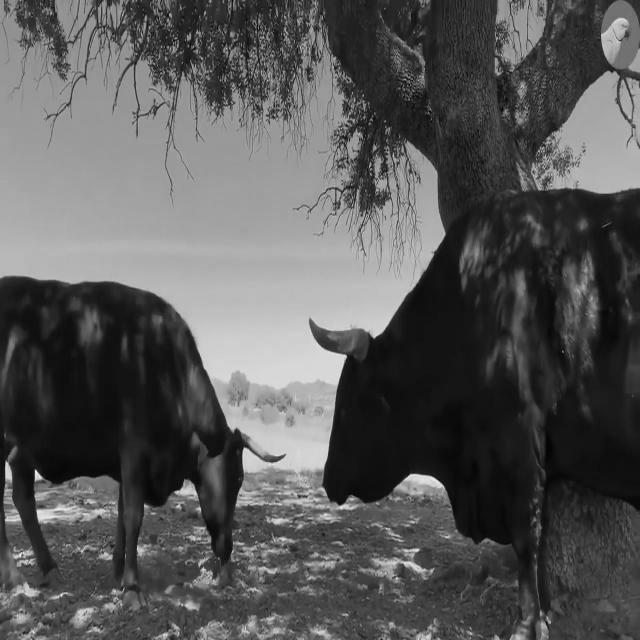cow: (312, 190, 640, 639), (0, 278, 280, 589)
